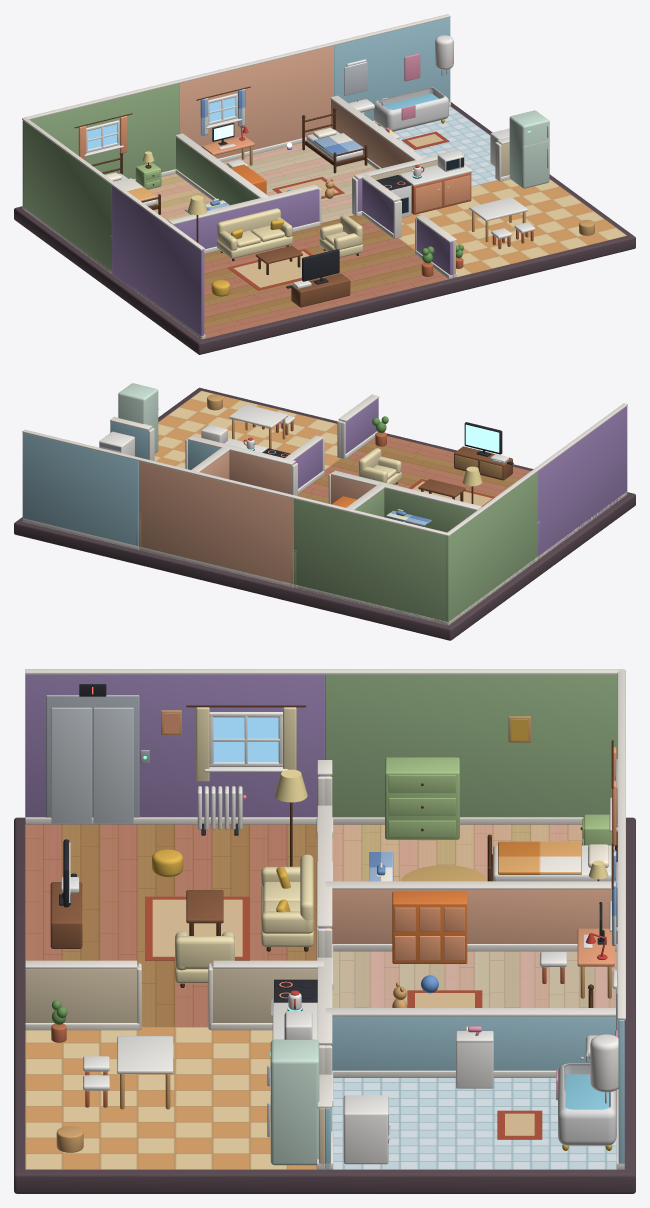
Rendered from floor1.glb.
3 views of the same model, one above another, from view 1: azimuth 30°, elevation 25°; view 2: azimuth 150°, elevation 25°; view 3: azimuth 270°, elevation 25° (orthographic). The views are drawn at different scales.
Visible parts, largest first — view 1: floor_living, slab, wall_kids_y8.0_0, floor_kitchen, wall_living_x0.0_0, wall_bedroom_x0.0_0, wall_bedroom_y8.0_0, wall_bath_y8.0_0, floor_kids, floor_bath, body.006, wall_living_y4.0_1 (+28 smaller); view 2: wall_bedroom_y8.0_0, wall_kids_y8.0_0, slab, wall_bath_y8.0_0, wall_bedroom_x0.0_0, wall_living_x0.0_0, floor_kitchen, floor_living, wall_bedroom_y4.0_1, wall_kids_y4.0_1, cap_ext_north, body.006 (+20 smaller); view 3: wall_bedroom_x0.0_0, floor_kitchen, floor_living, slab, wall_living_x0.0_0, floor_bath, wall_bath_x8.0_0, floor_kids, wall_kids_x4.0_0, floor_bedroom, body.006, wall_kitchen_x6.5_0 (+52 smaller).
Part boxes in pixels (bbox=[...]): floor_living: bbox=[112, 215, 448, 338]; slab: bbox=[14, 102, 635, 354]; wall_kids_y8.0_0: bbox=[179, 45, 333, 158]; floor_kitchen: bbox=[398, 179, 626, 278]; wall_living_x0.0_0: bbox=[112, 186, 204, 339]; wall_bedroom_x0.0_0: bbox=[22, 121, 111, 272]; wall_bedroom_y8.0_0: bbox=[22, 83, 178, 207]; wall_bath_y8.0_0: bbox=[334, 17, 450, 120]; floor_kids: bbox=[223, 143, 376, 222]; floor_bath: bbox=[377, 106, 497, 186]; body.006: bbox=[509, 110, 549, 188]; wall_living_y4.0_1: bbox=[173, 189, 318, 249]; wall_bedroom_y8.0_0: bbox=[293, 499, 448, 623]; wall_kids_y8.0_0: bbox=[139, 461, 293, 584]; slab: bbox=[14, 387, 635, 640]; wall_bath_y8.0_0: bbox=[22, 433, 138, 545]; wall_bedroom_x0.0_0: bbox=[446, 471, 537, 624]; wall_living_x0.0_0: bbox=[538, 406, 627, 557]; floor_kitchen: bbox=[154, 390, 340, 469]; floor_living: bbox=[298, 436, 623, 558]; wall_bedroom_y4.0_1: bbox=[384, 488, 476, 532]; wall_kids_y4.0_1: bbox=[229, 450, 293, 494]; cap_ext_north: bbox=[22, 429, 449, 536]; body.006: bbox=[118, 383, 158, 453]; wall_bedroom_x0.0_0: bbox=[325, 674, 617, 817]; floor_kitchen: bbox=[25, 1027, 324, 1169]; floor_living: bbox=[25, 824, 317, 1026]; slab: bbox=[14, 817, 635, 1193]; wall_living_x0.0_0: bbox=[25, 674, 324, 817]; floor_bath: bbox=[325, 1078, 616, 1169]; wall_bath_x8.0_0: bbox=[331, 1016, 618, 1070]; floor_kids: bbox=[332, 951, 616, 1007]; wall_kids_x4.0_0: bbox=[331, 890, 617, 943]; floor_bedroom: bbox=[332, 824, 614, 881]; body.006: bbox=[270, 1039, 319, 1165]; wall_kitchen_x6.5_0: bbox=[25, 966, 138, 1022].
Bounding box in the file's own units: 11.3 × 2.54 × 8.3.
50 materials, 7 textured.
